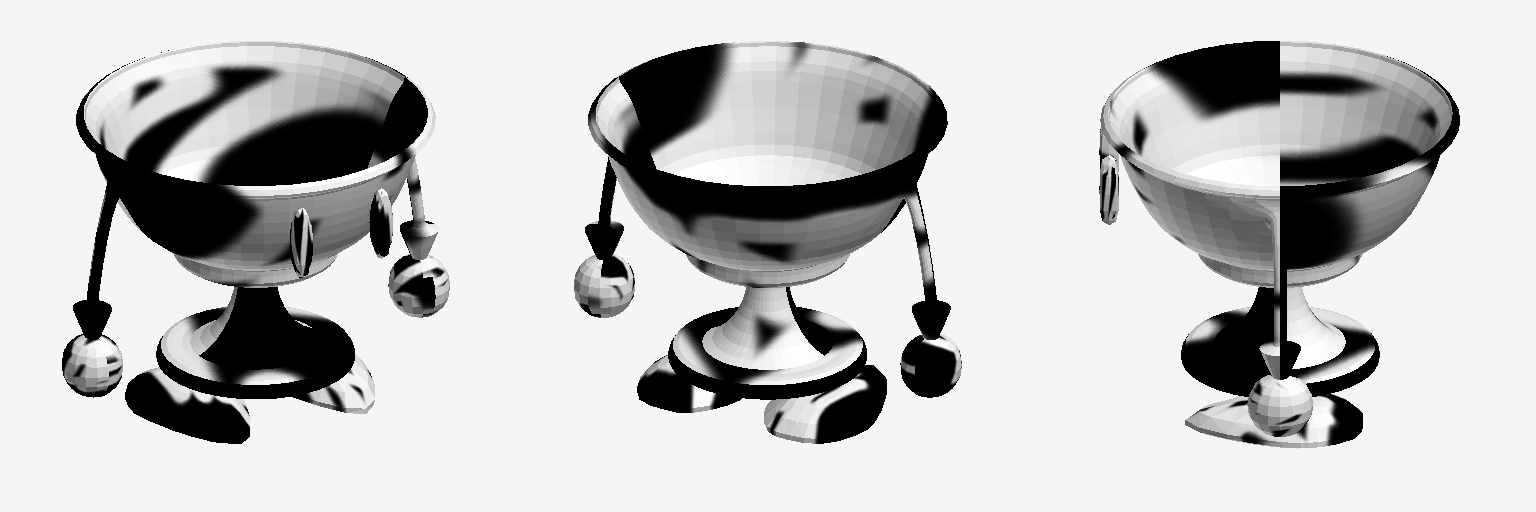
3 views of the same model, side by side, from view 1: azimuth 30°, elevation 25°; view 2: azimuth 150°, elevation 25°; view 3: azimuth 270°, elevation 25° (orthographic).
Parts seen in each view (by area): view 1: goblet_high_Mesh; view 2: goblet_high_Mesh; view 3: goblet_high_Mesh.
Part boxes in pixels (bbox=[...]): goblet_high_Mesh: bbox=[62, 41, 449, 443]; goblet_high_Mesh: bbox=[574, 41, 961, 443]; goblet_high_Mesh: bbox=[1099, 41, 1459, 448].
Size of the model in its own units: 23.56 by 16.9 by 19.4.
1 materials, 1 textured.